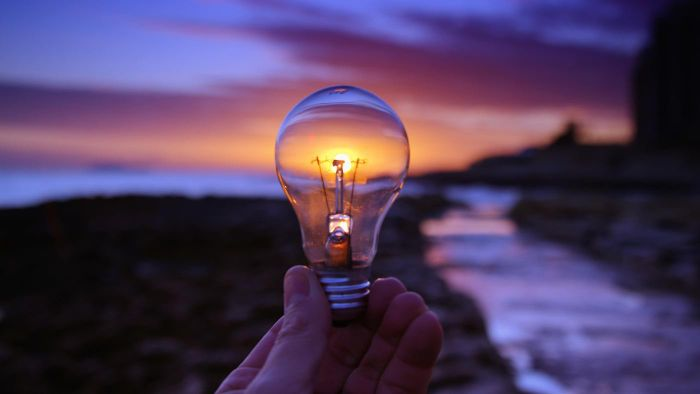Nonrec_Glass: (271, 77, 412, 327)
